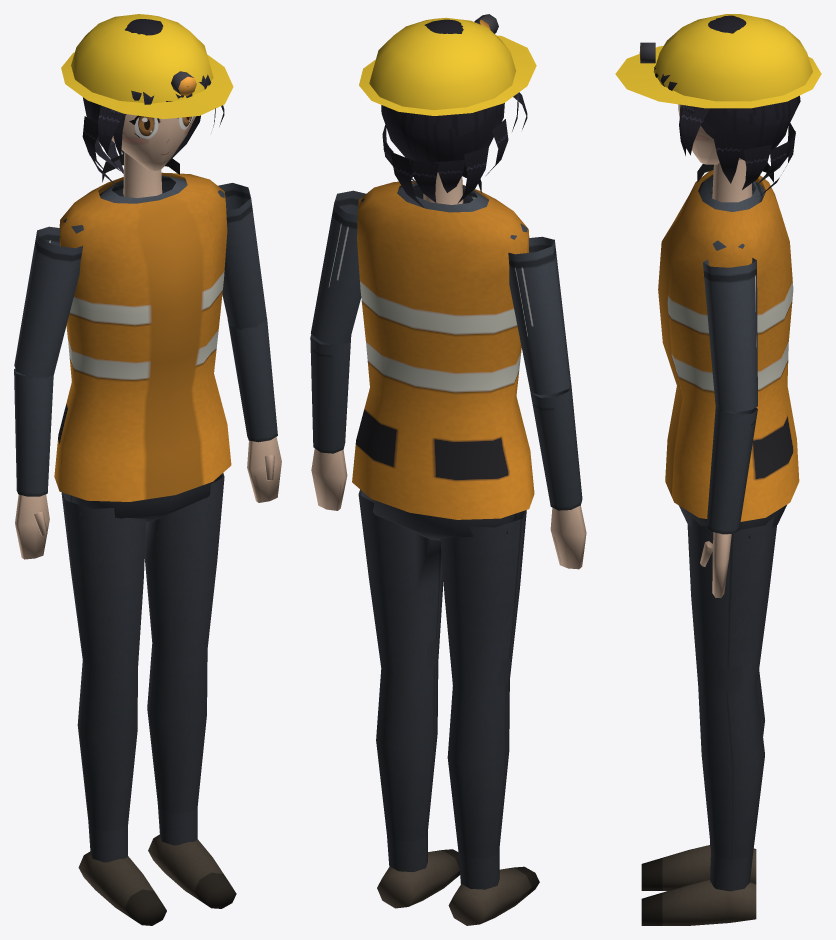
Rendered from NPC_Rin.fbx.
3 views of the same model, side by side, from view 1: azimuth 30°, elevation 25°; view 2: azimuth 150°, elevation 25°; view 3: azimuth 270°, elevation 25° (orthographic). The views are drawn at different scales.
Parts seen in each view (by area): view 1: Rin_Body, Rin_Head; view 2: Rin_Body, Rin_Head; view 3: Rin_Body, Rin_Head.
Part boxes in pixels (bbox=[...]): Rin_Body: bbox=[14, 152, 281, 925]; Rin_Head: bbox=[61, 14, 233, 188]; Rin_Body: bbox=[310, 167, 586, 925]; Rin_Head: bbox=[359, 14, 536, 207]; Rin_Body: bbox=[641, 159, 799, 925]; Rin_Head: bbox=[615, 14, 821, 196].
Bounding box in the file's own units: 0.5365 × 1.68 × 0.3551.
